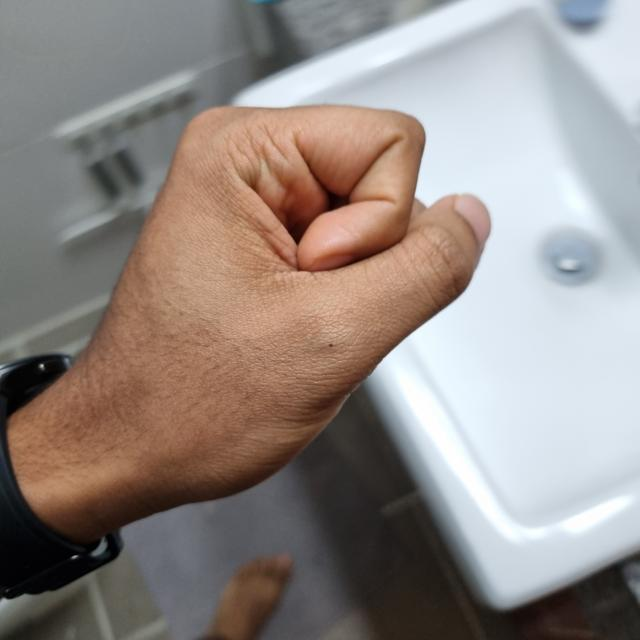Rock: (65, 104, 486, 506)
